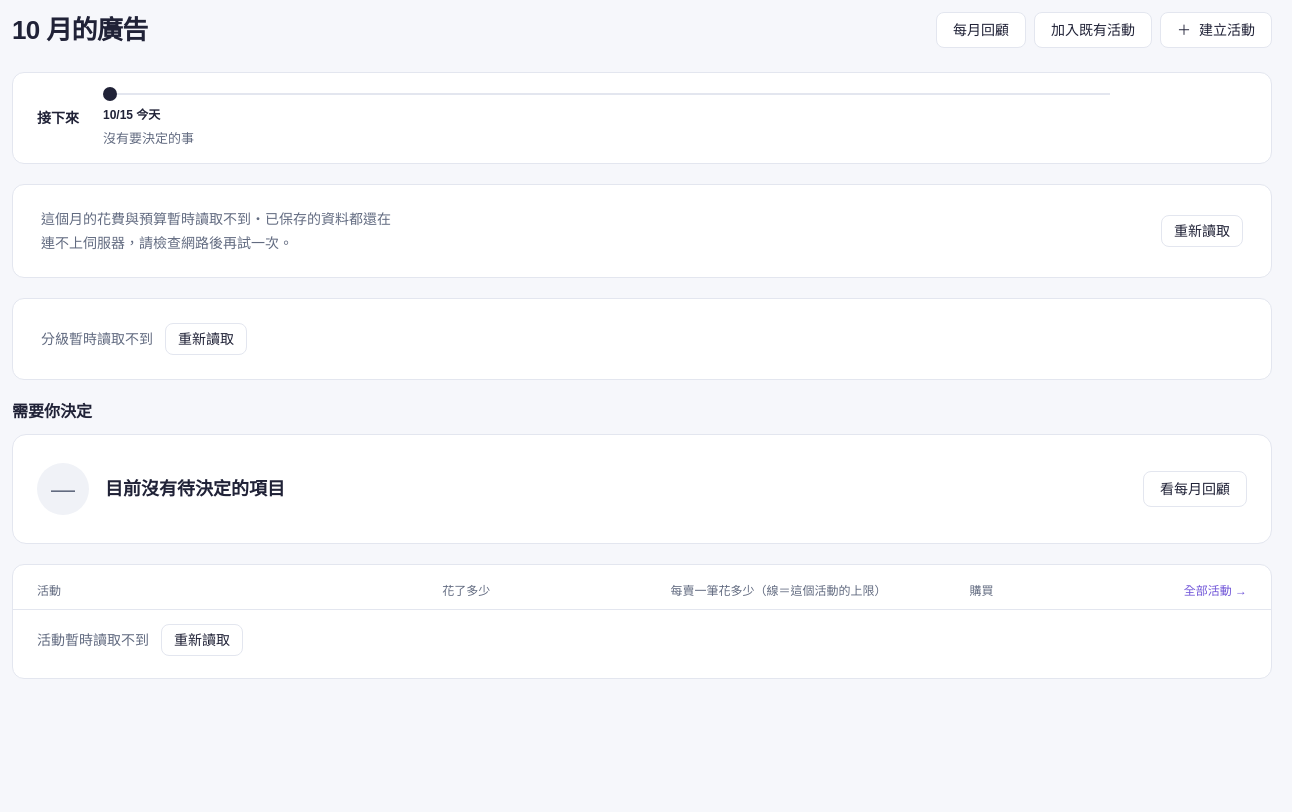
AdsHomePage (F28-I08 board D) › shows the central network reason for home failure and retries independently
The width and height of the screenshot is (1292, 812).
Expected: the text "連不上伺服器，請檢查網路後再試一次。" is shown once, left=41, top=235, right=293, bottom=251
Click the button "重新讀取" in the row of "這個月的花費與預算暫時讀取不到・已保存的資料都還在".
click(1202, 231)  # box left=1161, top=215, right=1243, bottom=247
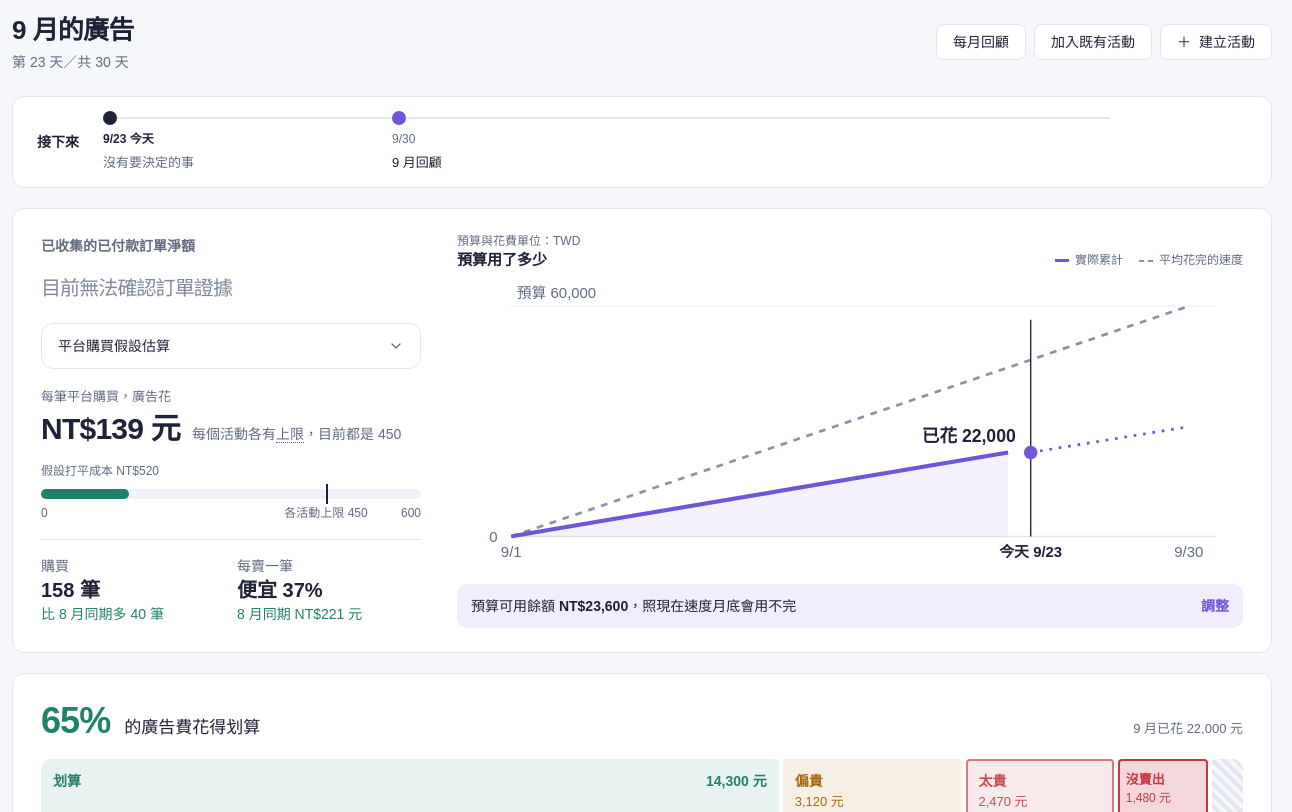
Result: the text "目前無法確認訂單證據" is shown at left=41, top=277, right=232, bottom=299
Result: the text "連不上伺服器，請檢查網路後再試一次。" is gone
